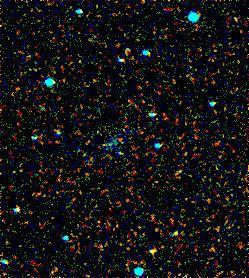star: (112, 36, 142, 66)
